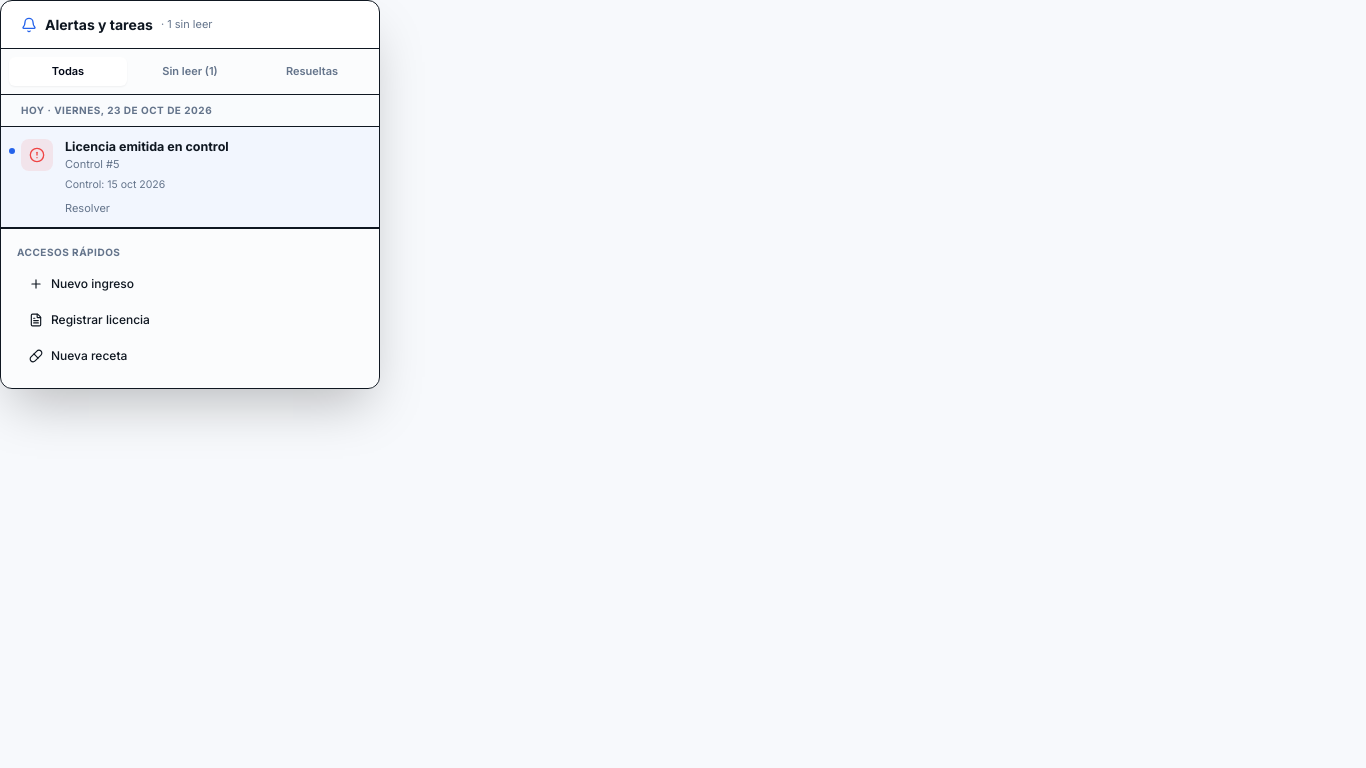
Scenario: AlertsPanel: alertas de licencia del control › al hacer clic en una alerta de licencia abre el control con sus documentos
Click the text "Licencia emitida en control": (147, 146) [65, 138, 229, 154]
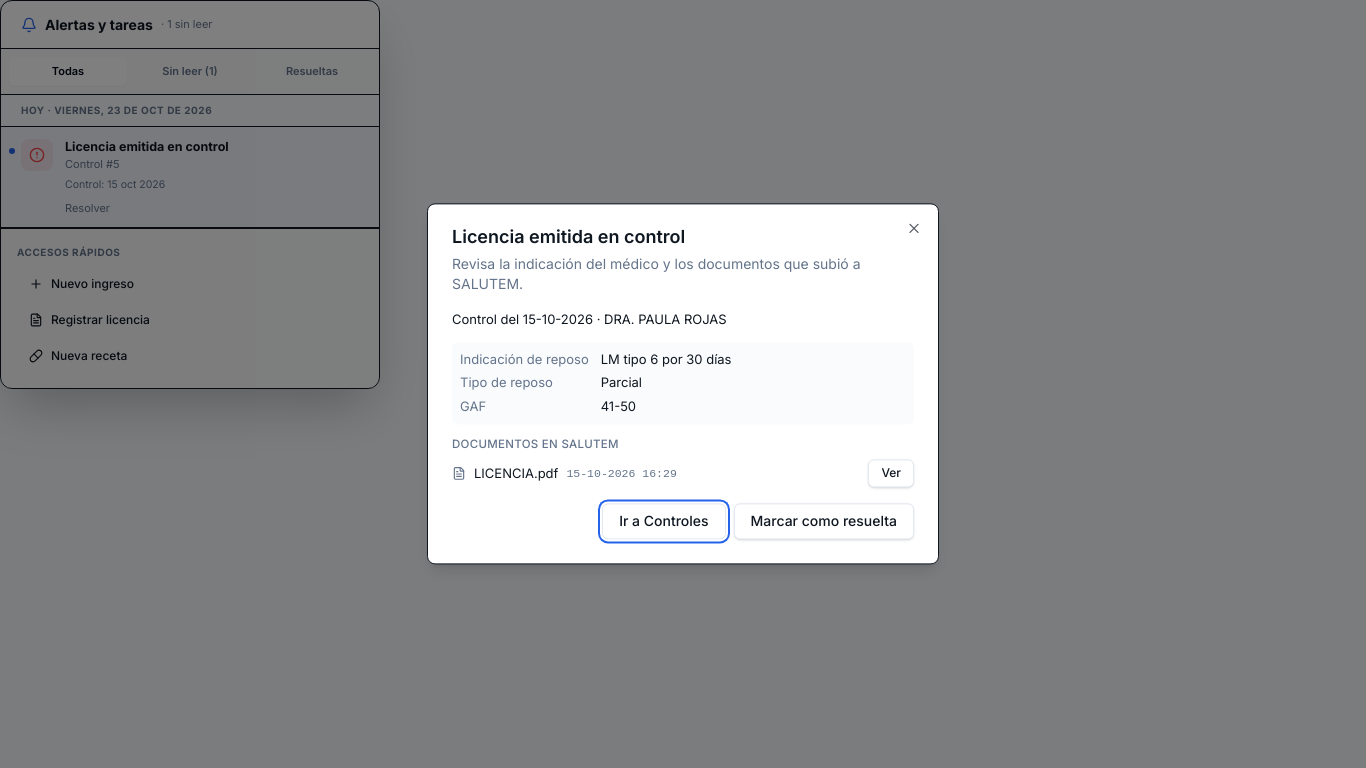
Expected: the text "Control del 15-10-2026 · DRA. PAULA ROJAS" is shown, [452, 311, 727, 327]
Expected: the text "LM tipo 6 por 30 días" is shown, [601, 351, 732, 367]
Expected: the text "Parcial" is shown, [601, 374, 642, 390]
